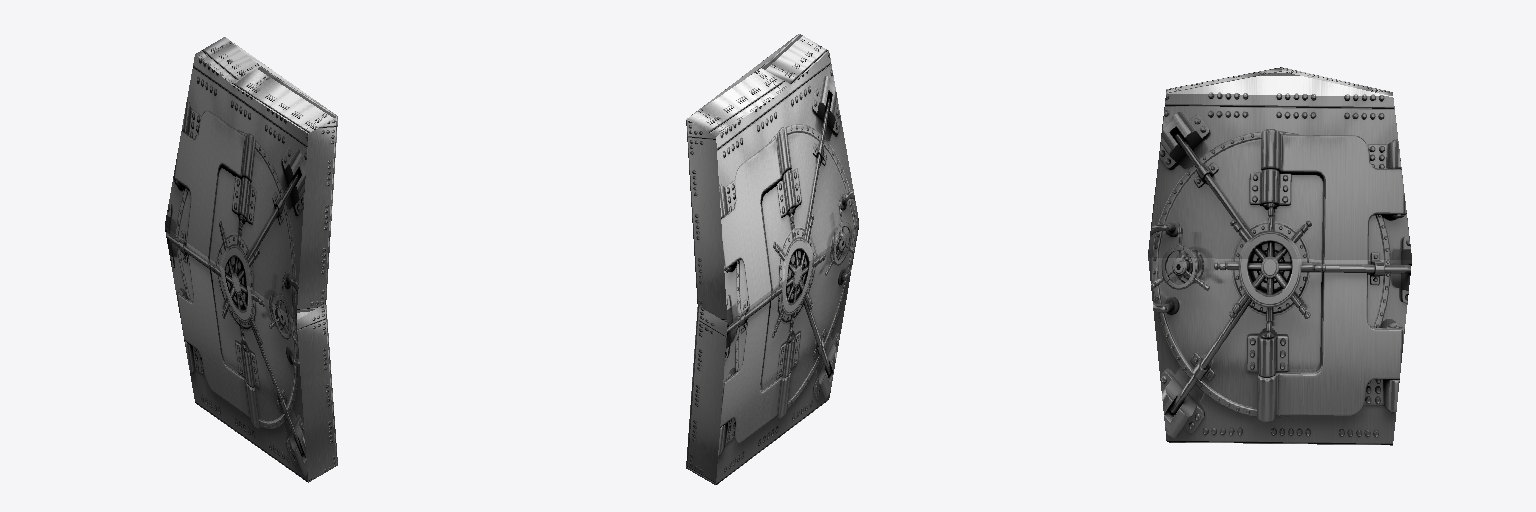
3 renders of one model, left to right at view 1: azimuth 30°, elevation 25°; view 2: azimuth 150°, elevation 25°; view 3: azimuth 270°, elevation 25°, orthographic.
Visible parts, largest first — view 1: Cube.001; view 2: Cube.001; view 3: Cube.001.
Boxes of the visible parts, <box> form: Cube.001: <box>165,37,337,482</box>; Cube.001: <box>686,34,858,484</box>; Cube.001: <box>1148,67,1411,445</box>.
Size of the model in its own units: 0.3889 by 2.73 by 1.74.
Materials: 2 (1 with a texture image).